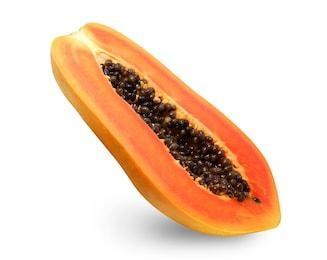papaya: (48, 21, 281, 236)
